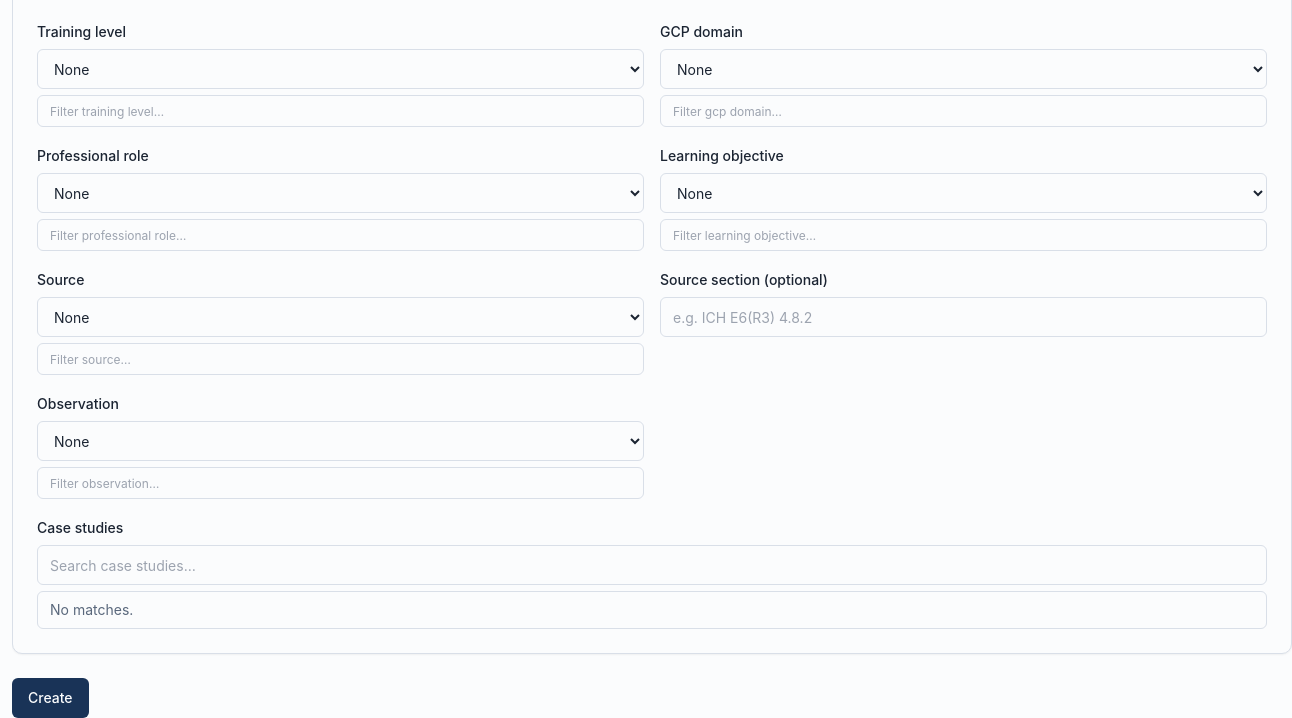
Test: QuestionForm › blocks submission and shows client-side validation errors for an incomplete form
(page scrolled)
Click the button "Create". click: [50, 698]
box: x1=12 y1=678 x2=89 y2=717
(page scrolled)
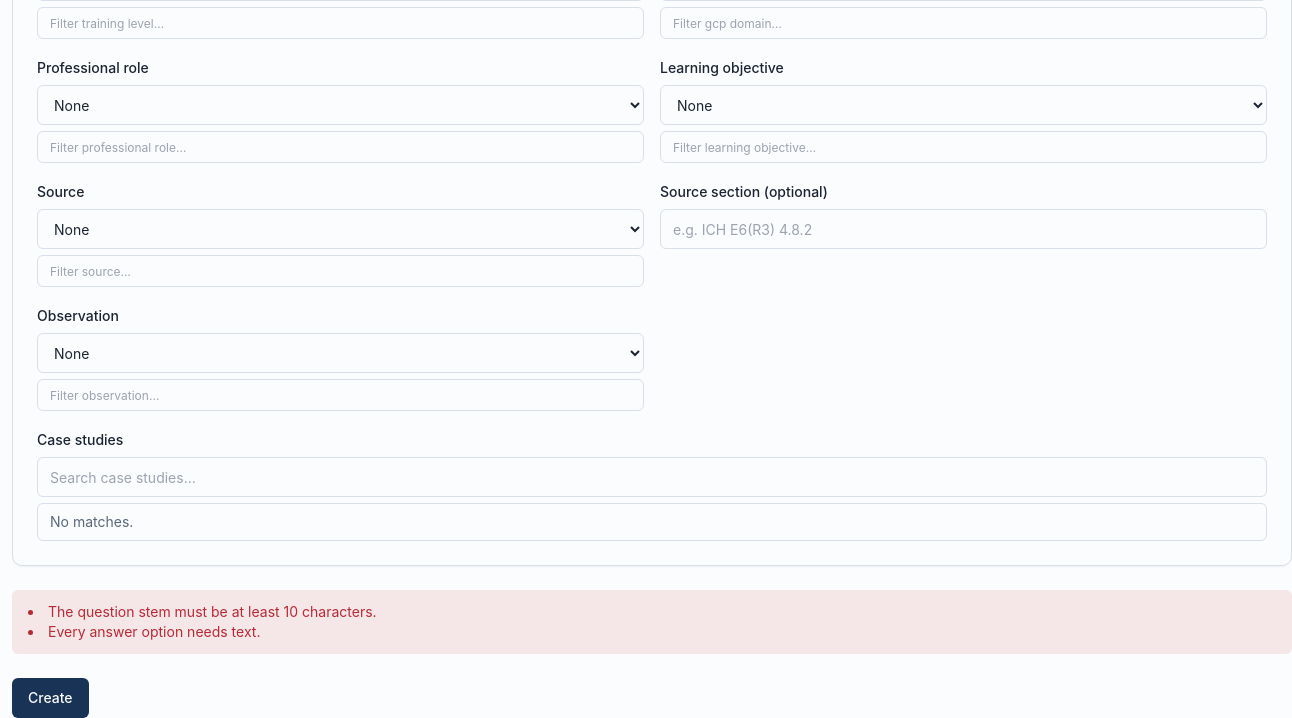
Check: the list item "The question stem must be at least 10 characters." is shown, box x1=48 y1=603 x2=377 y2=620
Check: the list item "Every answer option needs text." is shown, box x1=48 y1=623 x2=260 y2=640
